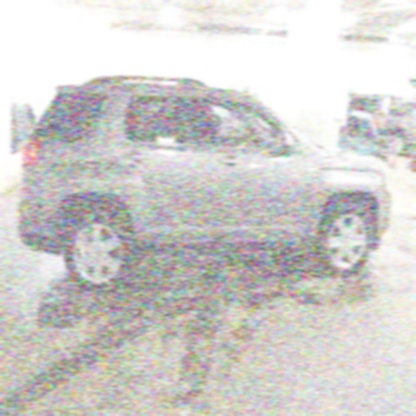Vehicle: (14, 69, 394, 290)
